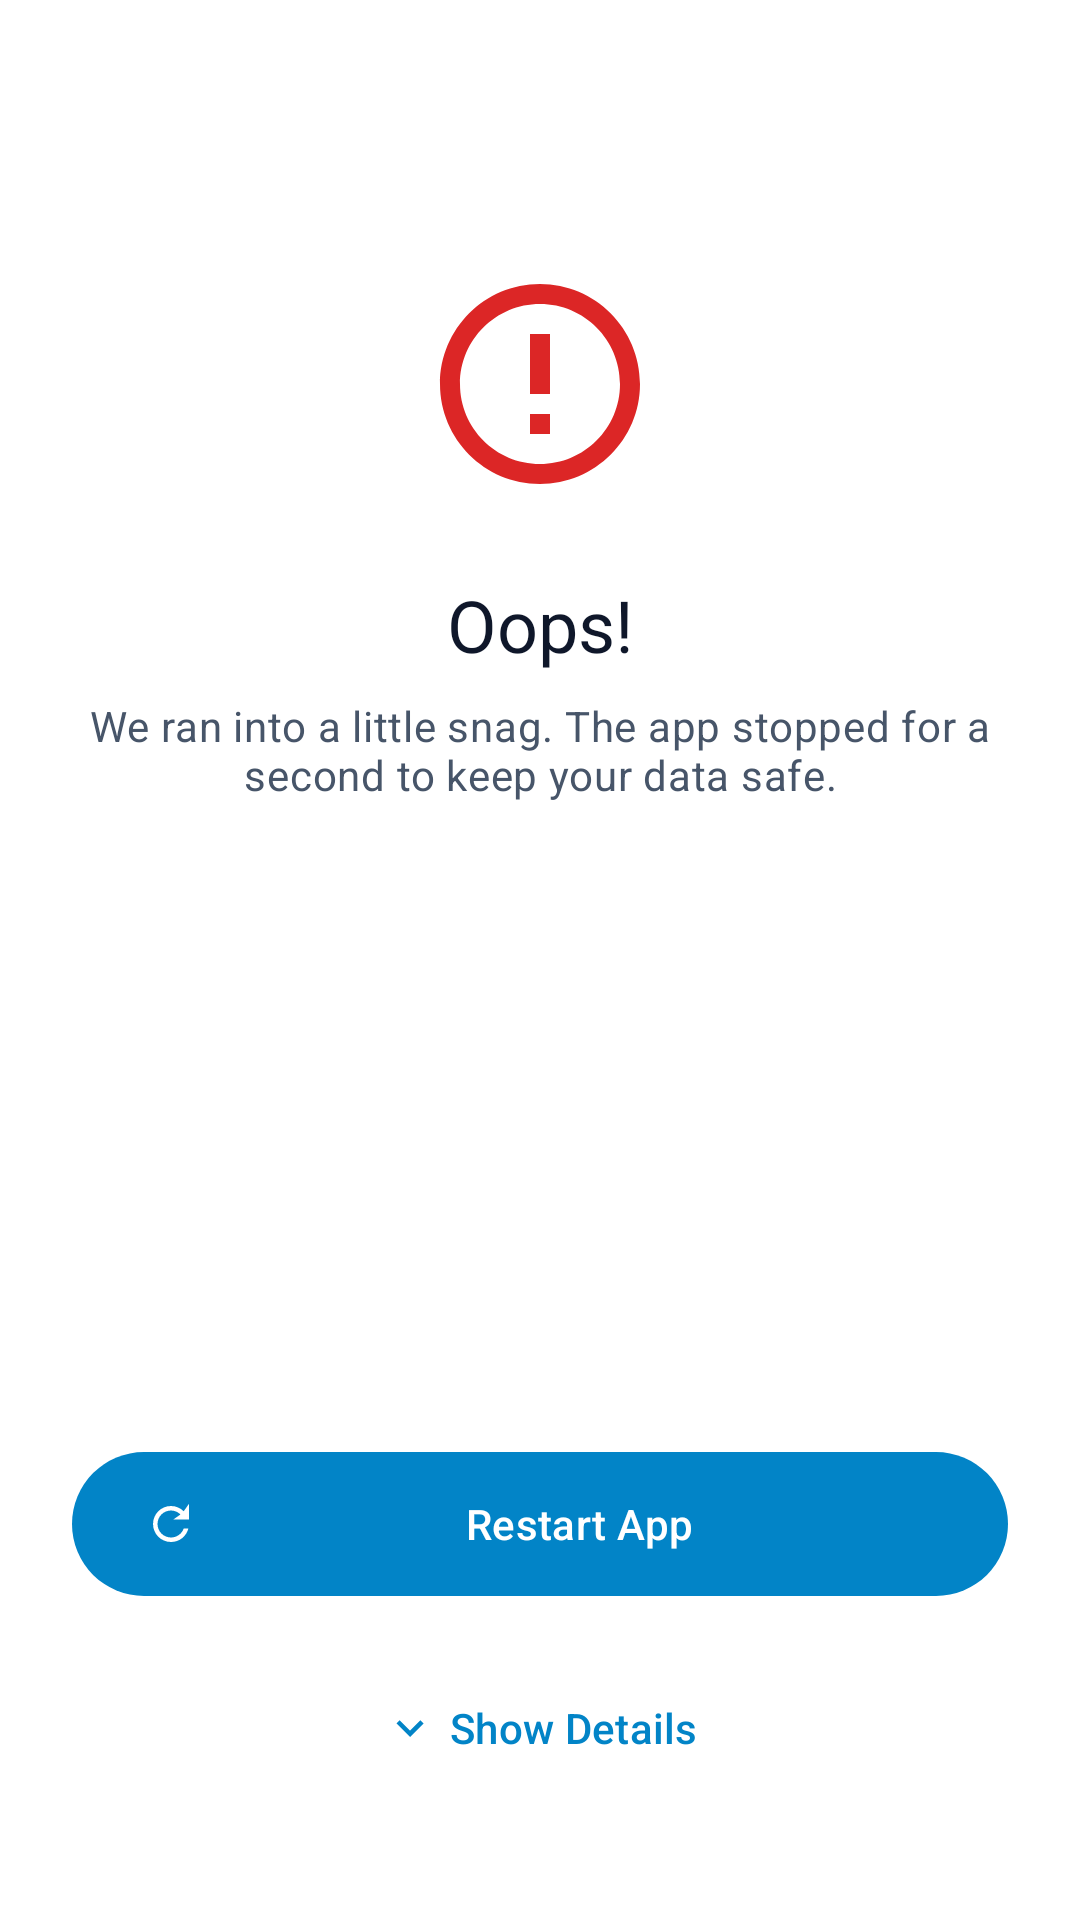

Locate icon controls on the screen. Image size 1080px×1920px, boxes as (x1, y1, x2, y2).
error: (440, 284, 640, 484)
